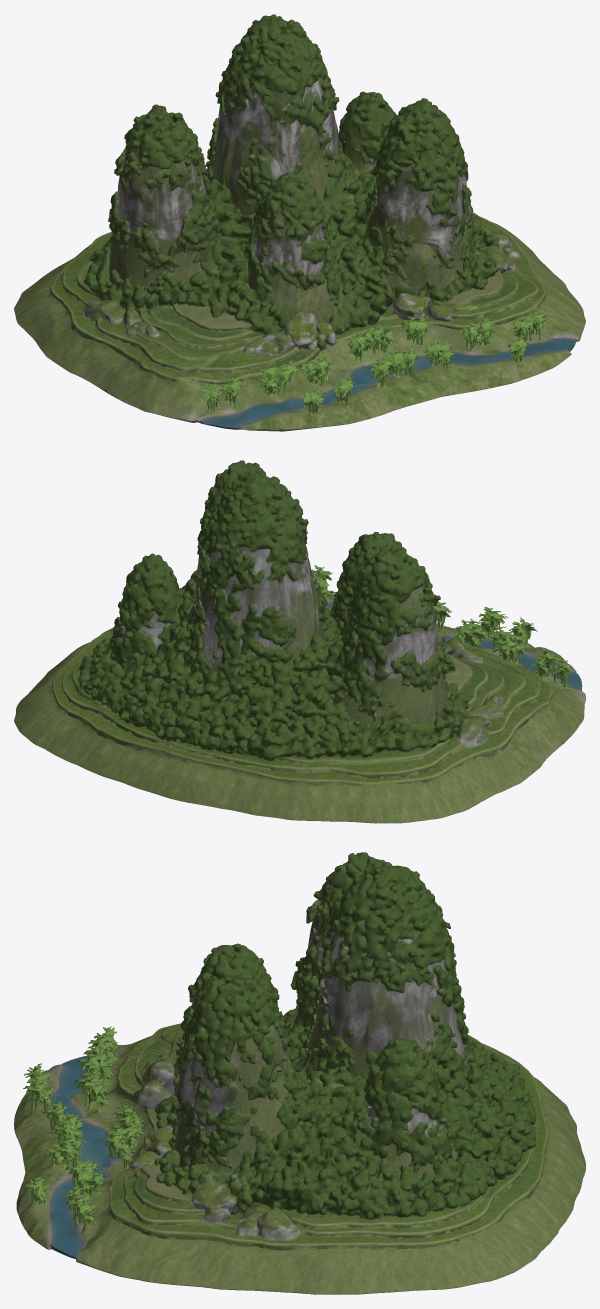
Rendered from av_karst.glb.
3 renders of one model, top to bottom at view 1: azimuth 30°, elevation 25°; view 2: azimuth 150°, elevation 25°; view 3: azimuth 270°, elevation 25°, orthographic. The views are drawn at different scales.
Parts seen in each view (by area): view 1: av_karst; view 2: av_karst; view 3: av_karst.
Part boxes in pixels (box(x1,y1,x2,y2)): av_karst: box(14, 14, 585, 431); av_karst: box(14, 460, 585, 823); av_karst: box(14, 852, 585, 1294).
Size of the model in its own units: 1.9 by 1.01 by 1.74.
1 material, 1 textured.
